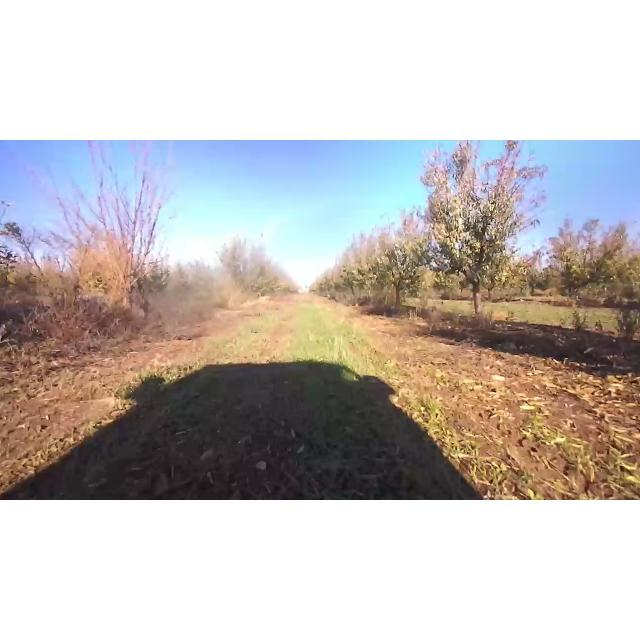direk: (409, 142, 547, 322), (52, 140, 175, 318), (544, 214, 638, 296), (370, 220, 432, 310), (212, 227, 276, 306), (342, 233, 386, 304)
